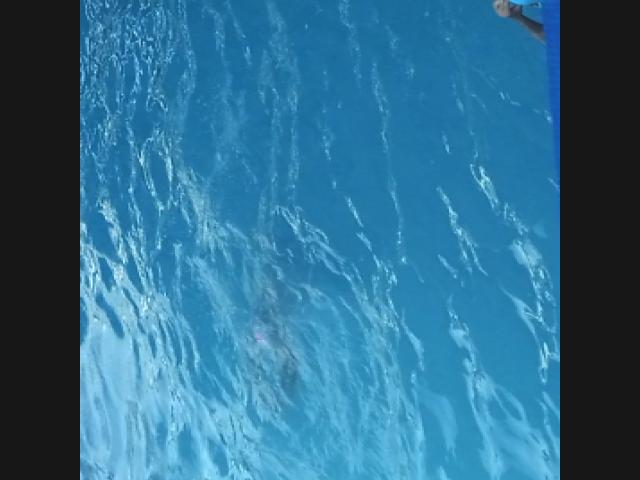swimming: (482, 0, 549, 42)
